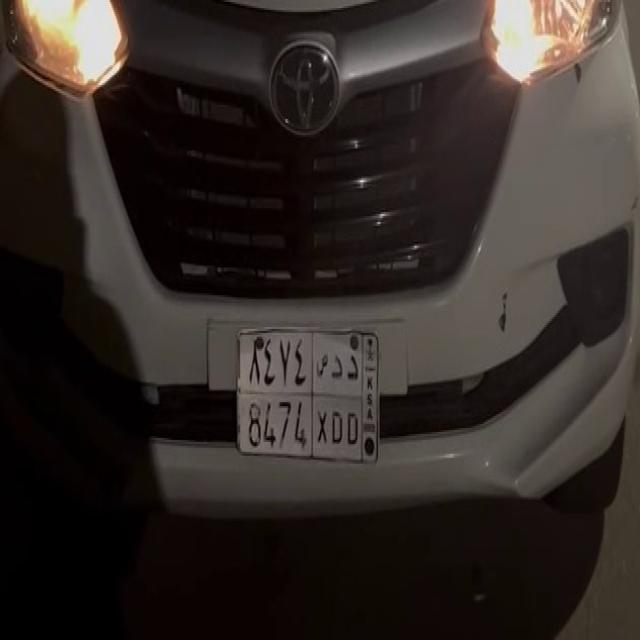Car-plate: (228, 306, 384, 481)
